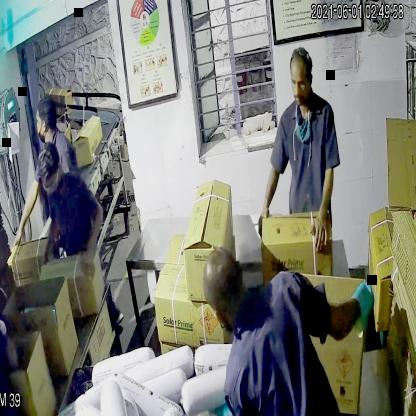goggles: (39, 172, 62, 197)
no_goggles: (286, 70, 316, 94)
